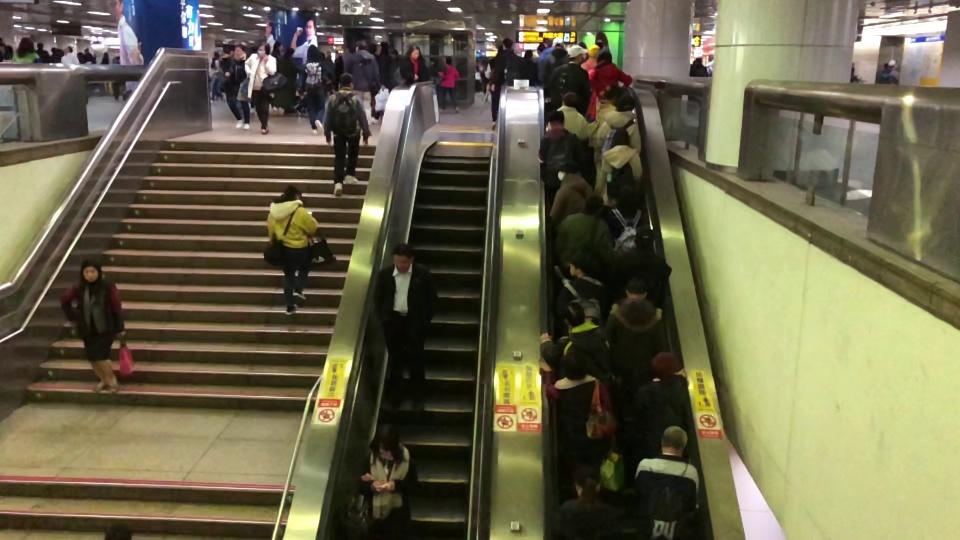person_head: (572, 461, 602, 499), (369, 423, 400, 459), (560, 346, 589, 382), (658, 425, 689, 458), (649, 351, 681, 381), (391, 242, 413, 274), (562, 301, 586, 328), (623, 275, 648, 300), (78, 258, 102, 284), (568, 251, 592, 277), (616, 184, 639, 211), (632, 225, 654, 253), (583, 194, 605, 218), (566, 44, 588, 64), (609, 129, 631, 149), (562, 153, 581, 176), (280, 184, 302, 203), (603, 83, 625, 102), (613, 94, 634, 113), (16, 37, 35, 57), (548, 110, 566, 130), (337, 72, 354, 92), (561, 89, 578, 109), (595, 47, 613, 65), (305, 44, 322, 62), (255, 42, 271, 58), (586, 43, 600, 59), (233, 44, 246, 59), (408, 43, 420, 59), (378, 41, 390, 55), (354, 39, 367, 51), (552, 37, 564, 50), (272, 41, 283, 54), (367, 42, 378, 55), (501, 37, 512, 50), (284, 47, 295, 59), (536, 43, 546, 55), (543, 36, 553, 48), (222, 44, 232, 55), (62, 45, 73, 54), (524, 48, 533, 59), (888, 59, 897, 70), (390, 48, 399, 58), (693, 56, 703, 65), (444, 54, 452, 65), (480, 59, 488, 70), (496, 44, 503, 56), (211, 51, 220, 60), (36, 42, 44, 50), (83, 46, 90, 54), (336, 54, 343, 62), (883, 62, 889, 71), (0, 43, 5, 53), (114, 55, 120, 62), (103, 51, 108, 59)
person_vbox: (538, 345, 618, 499), (371, 242, 438, 415), (604, 275, 671, 414), (58, 258, 125, 393), (628, 351, 690, 489), (631, 425, 702, 540), (264, 184, 318, 317), (542, 461, 632, 540), (358, 423, 418, 540), (321, 71, 371, 197), (538, 301, 614, 381), (601, 226, 672, 308), (554, 194, 619, 278), (551, 251, 611, 332), (538, 109, 586, 209), (542, 43, 591, 121), (594, 129, 642, 208), (584, 47, 633, 120), (296, 44, 335, 135), (341, 39, 381, 123), (548, 153, 594, 226), (243, 42, 277, 135), (601, 184, 646, 253), (594, 94, 641, 157), (223, 44, 250, 132), (588, 84, 625, 144), (546, 89, 588, 140), (489, 37, 526, 93), (275, 47, 304, 116), (486, 44, 504, 131), (537, 37, 568, 87), (367, 42, 386, 123), (435, 54, 460, 114), (399, 43, 431, 83), (375, 41, 394, 92), (688, 56, 709, 101), (11, 36, 43, 64), (208, 51, 223, 104), (580, 43, 601, 72), (535, 36, 554, 68), (524, 48, 539, 86), (390, 48, 404, 86), (111, 55, 121, 101), (100, 51, 110, 93), (60, 45, 80, 64), (480, 59, 489, 101), (219, 44, 232, 73), (333, 54, 343, 91), (886, 58, 900, 83), (35, 42, 50, 63), (80, 46, 96, 64), (879, 62, 889, 82), (0, 43, 8, 62)
